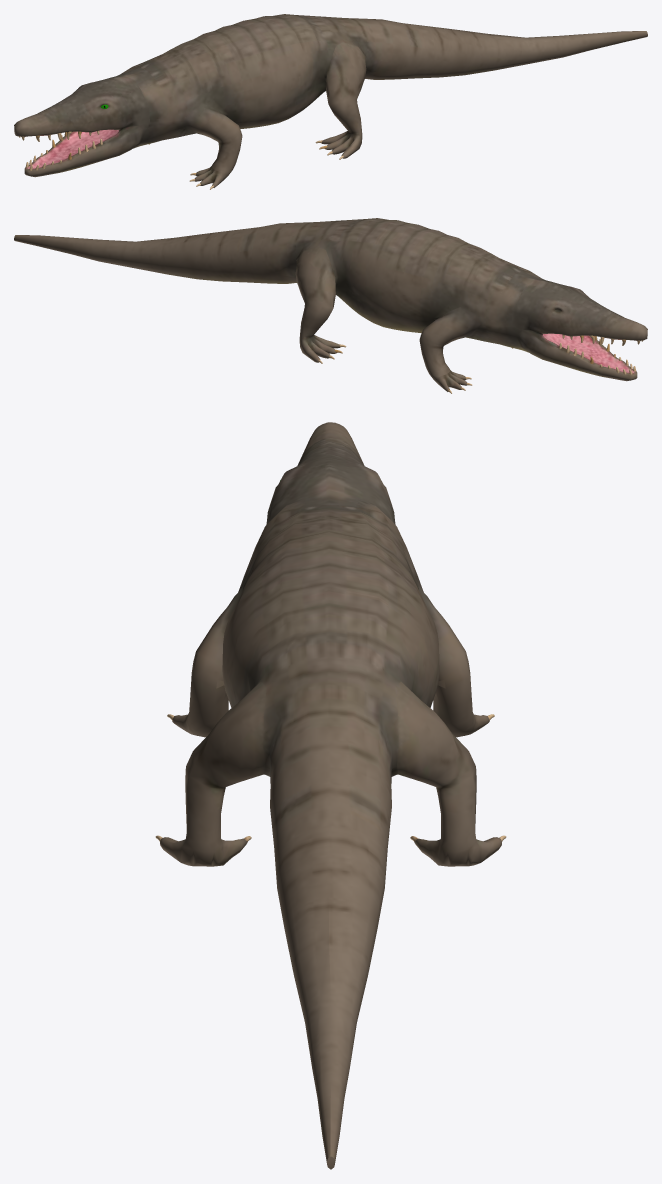
Rendered from alligator.glb.
The picture shows the model from 3 angles, top to bottom: view 1: azimuth 30°, elevation 25°; view 2: azimuth 150°, elevation 25°; view 3: azimuth 270°, elevation 25°; orthographic projection. The views are drawn at different scales.
Visible parts, largest first — view 1: BSurfaceMesh.002; view 2: BSurfaceMesh.002; view 3: BSurfaceMesh.002.
Boxes of the visible parts, box(x1,y1,x2,y2) form: BSurfaceMesh.002: box(14, 14, 647, 189); BSurfaceMesh.002: box(14, 218, 647, 393); BSurfaceMesh.002: box(155, 422, 506, 1169).
Bounding box in the file's own units: 5.42 × 0.9436 × 1.3.
3 materials, 1 textured.
